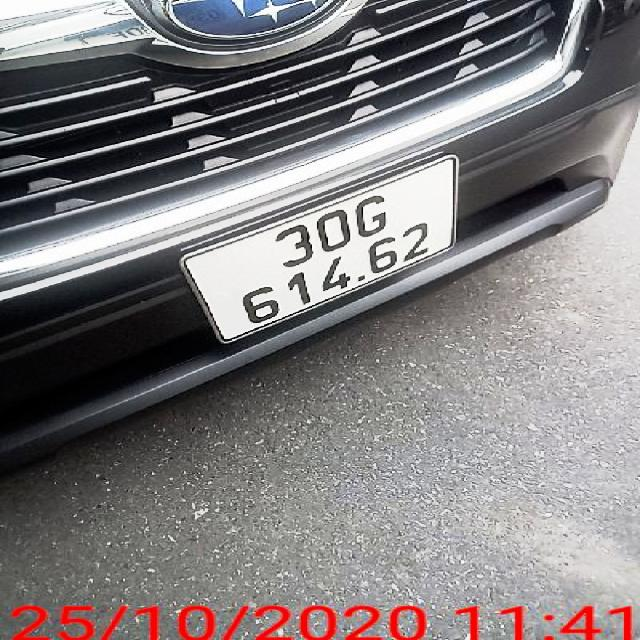license_plate: (185, 162, 451, 344)
